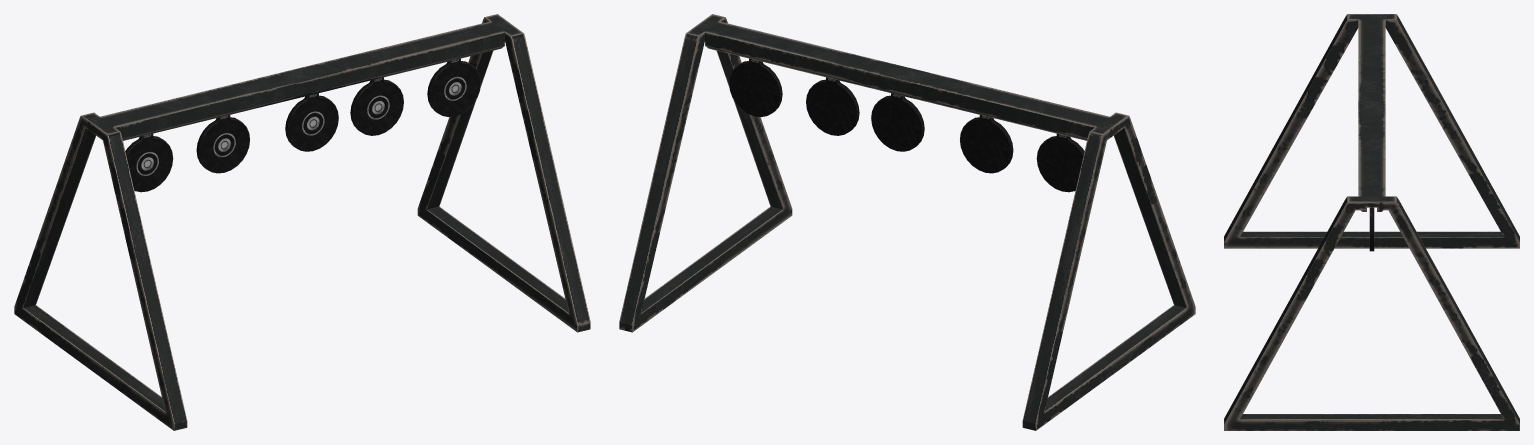
Rendered from plate_rack.glb.
The picture shows the model from 3 angles, left to right: view 1: azimuth 30°, elevation 25°; view 2: azimuth 150°, elevation 25°; view 3: azimuth 270°, elevation 25°; orthographic projection. The views are drawn at different scales.
Visible parts, largest first — view 1: Mount, Plate5, Plate4, Plate3, Plate2, Plate1; view 2: Mount, Plate5, Plate4, Plate3, Plate2, Plate1; view 3: Mount.
Boxes of the visible parts, x1=… form: Mount: x1=14, y1=14, x2=590, y2=430; Plate5: x1=427, y1=58, x2=480, y2=116; Plate4: x1=350, y1=77, x2=403, y2=135; Plate3: x1=285, y1=93, x2=338, y2=151; Plate2: x1=196, y1=115, x2=249, y2=173; Plate1: x1=125, y1=133, x2=173, y2=192; Mount: x1=619, y1=14, x2=1195, y2=430; Plate5: x1=729, y1=58, x2=782, y2=116; Plate4: x1=806, y1=77, x2=859, y2=135; Plate3: x1=871, y1=93, x2=924, y2=151; Plate2: x1=960, y1=115, x2=1013, y2=173; Plate1: x1=1036, y1=133, x2=1084, y2=192; Mount: x1=1224, y1=14, x2=1519, y2=430.
Bounding box in the file's own units: 2.48 × 1.4 × 1.64.
2 materials, 2 textured.
